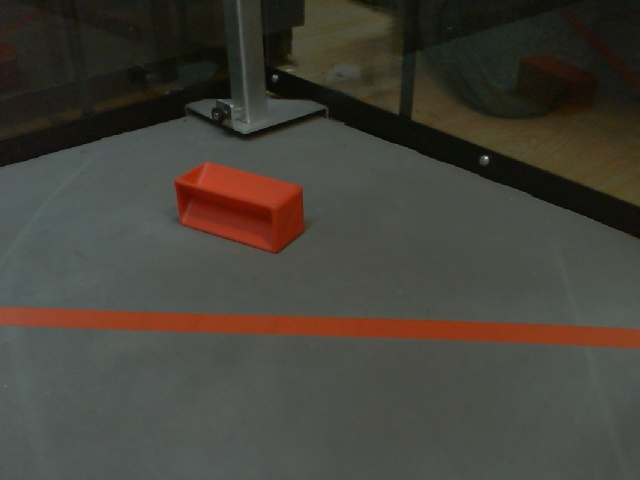RedSample: (172, 160, 310, 256)
